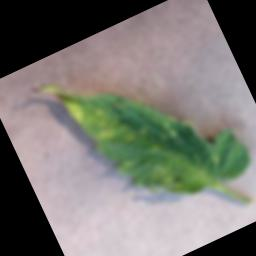Leaf_Mold: (37, 73, 88, 133), (89, 115, 121, 147)
